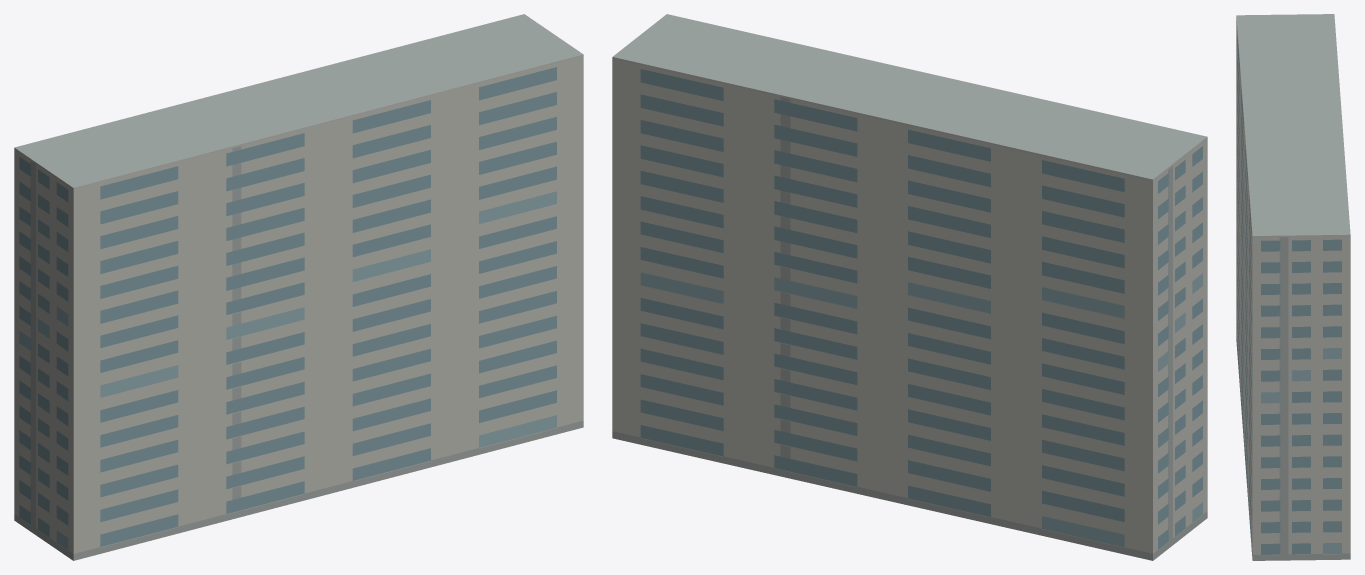
The model's file is residential-1c4f4aa4-bbc2-4b80-b210-90cd0c8904d0.glb.
3 views of the same model, side by side, from view 1: azimuth 30°, elevation 25°; view 2: azimuth 150°, elevation 25°; view 3: azimuth 270°, elevation 25° (orthographic). The views are drawn at different scales.
Visible parts, largest first — view 1: residential-1c4f4aa4-bbc2-4b80-b210-90cd0c8904d0.tmp; view 2: residential-1c4f4aa4-bbc2-4b80-b210-90cd0c8904d0.tmp; view 3: residential-1c4f4aa4-bbc2-4b80-b210-90cd0c8904d0.tmp.
Part boxes in pixels (box(x1,y1,x2,y2)): residential-1c4f4aa4-bbc2-4b80-b210-90cd0c8904d0.tmp: box(14, 14, 583, 560); residential-1c4f4aa4-bbc2-4b80-b210-90cd0c8904d0.tmp: box(612, 14, 1207, 560); residential-1c4f4aa4-bbc2-4b80-b210-90cd0c8904d0.tmp: box(1236, 14, 1350, 560).
Size of the model in its own units: 67.07 by 45.75 by 14.58.
